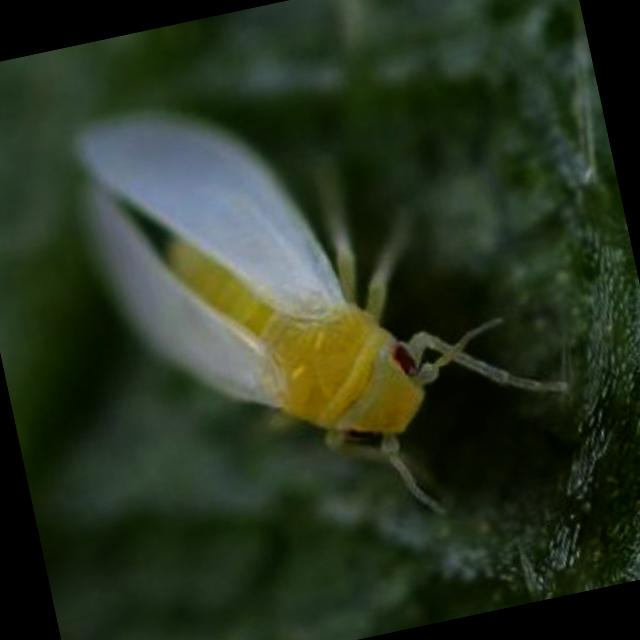Silverleaf whitefly: (36, 22, 604, 638)
